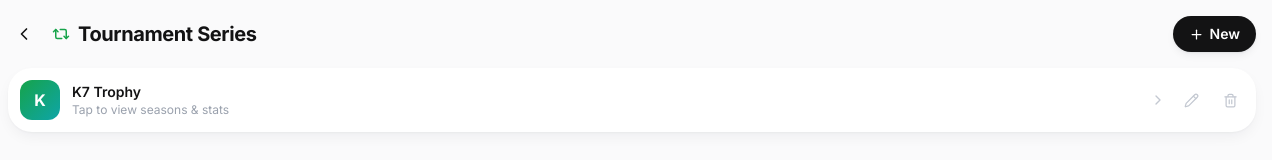
Test: Series page › shows rename input when pencil icon clicked
Expected: the text "K7 Trophy" is shown, [72, 83, 141, 100]
Click the button named "Rename K7 Trophy" at (1192, 100), box [1178, 86, 1205, 114]
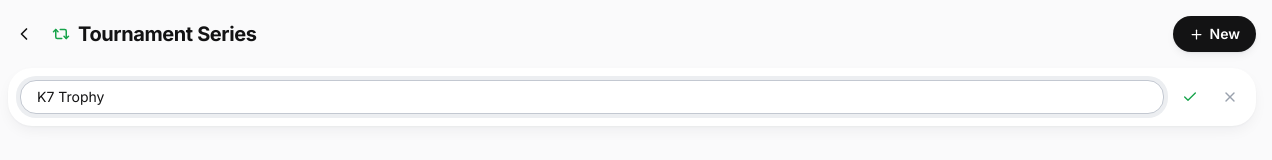
Expected: the field showing "K7 Trophy" is shown, [20, 80, 1164, 114]
